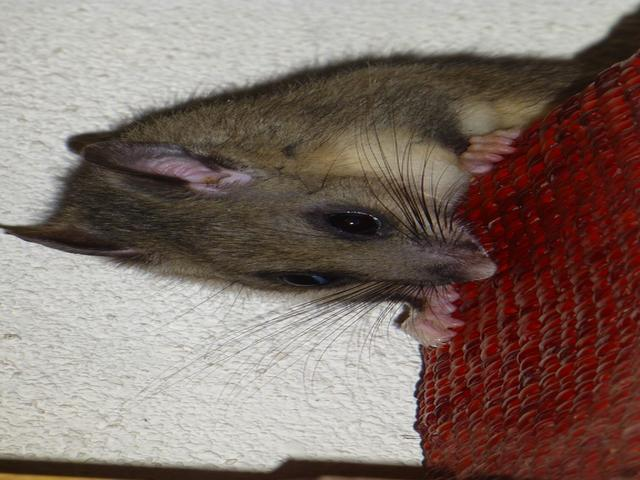mouse: (1, 41, 619, 358)
